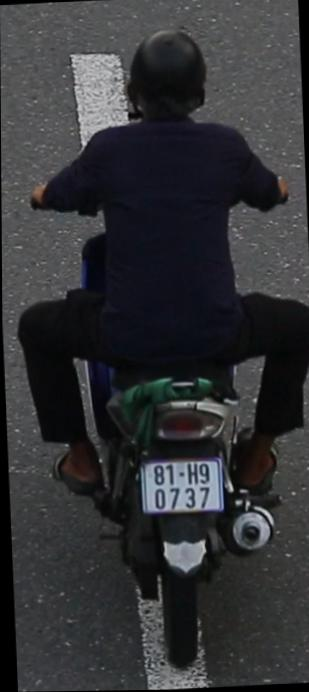LP: (135, 449, 227, 519)
helmet: (118, 25, 212, 133)
